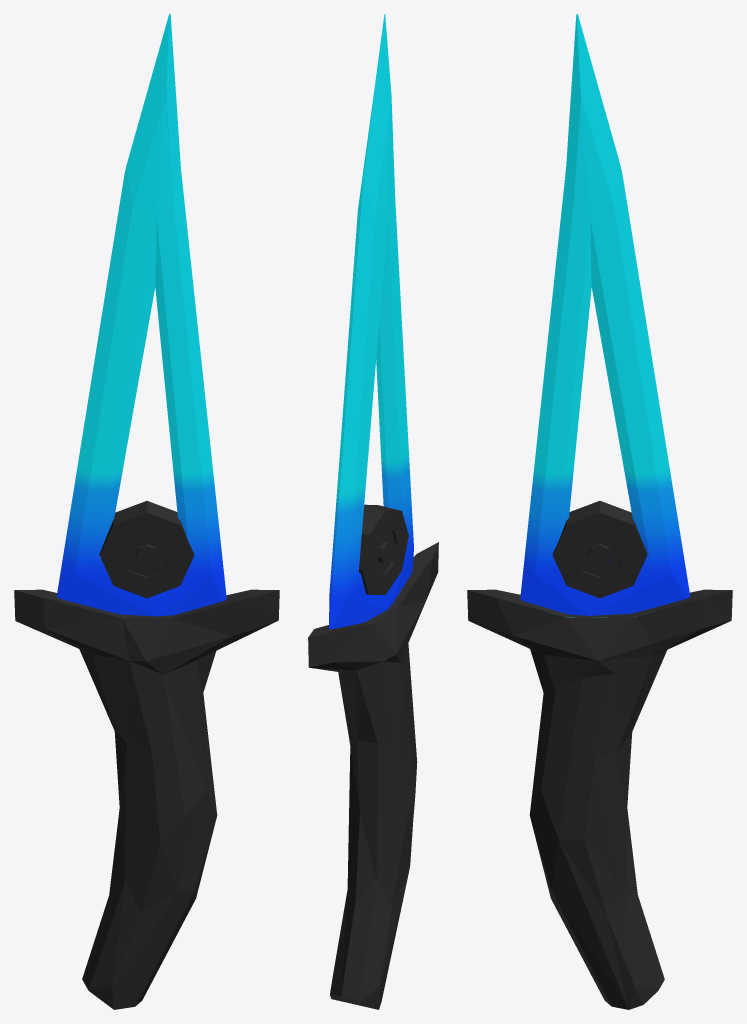
Rendered from Soul Knife.glb.
3 renders of one model, left to right at view 1: azimuth 90°, elevation 25°; view 2: azimuth 150°, elevation 25°; view 3: azimuth 270°, elevation 25°, orthographic.
Parts seen in each view (by area): view 1: Soul Knife; view 2: Soul Knife; view 3: Soul Knife.
Part boxes in pixels (<box>): Soul Knife: <box>14,14,279,1009</box>; Soul Knife: <box>308,14,438,1009</box>; Soul Knife: <box>467,14,732,1009</box>.
Bounding box in the file's own units: 0.4975 × 9.02 × 2.2.
2 materials, 2 textured.
